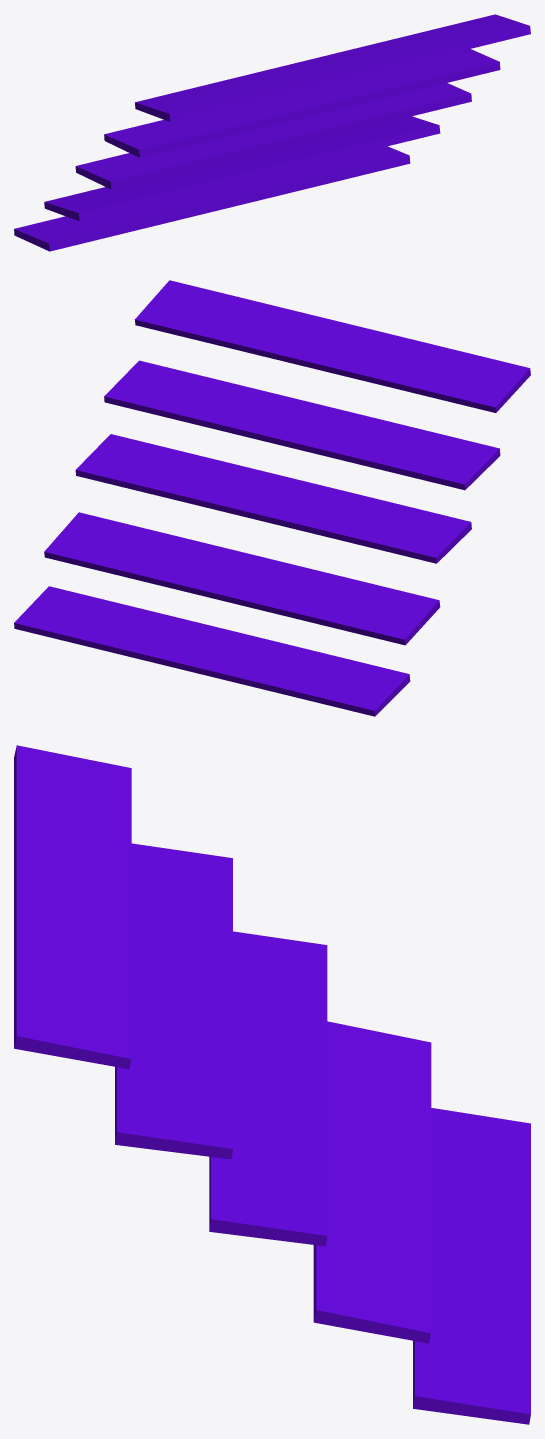
File: Stone_Stairs_Small_B.fbx
3 views of the same model, one above another, from view 1: azimuth 30°, elevation 25°; view 2: azimuth 150°, elevation 25°; view 3: azimuth 270°, elevation 25° (orthographic). The views are drawn at different scales.
Visible parts, largest first — view 1: Stone_Stairs_Small_B; view 2: Stone_Stairs_Small_B; view 3: Stone_Stairs_Small_B.
Part boxes in pixels (box(x1,y1,x2,y2)): Stone_Stairs_Small_B: box(14, 14, 530, 251); Stone_Stairs_Small_B: box(14, 280, 530, 716); Stone_Stairs_Small_B: box(14, 745, 530, 1424).
Size of the model in its own units: 198 by 123 by 149.
